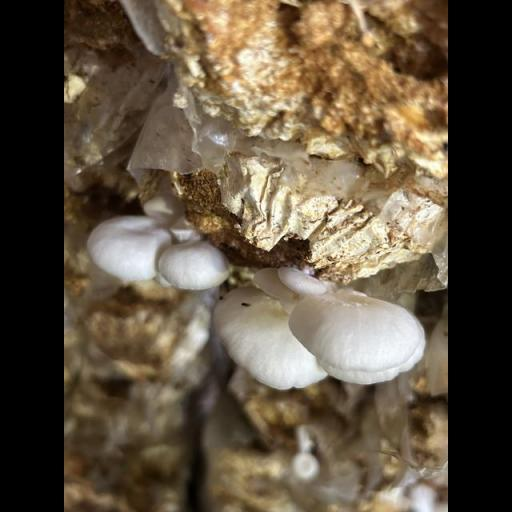White Oyster Mushroom: (90, 207, 427, 391)
